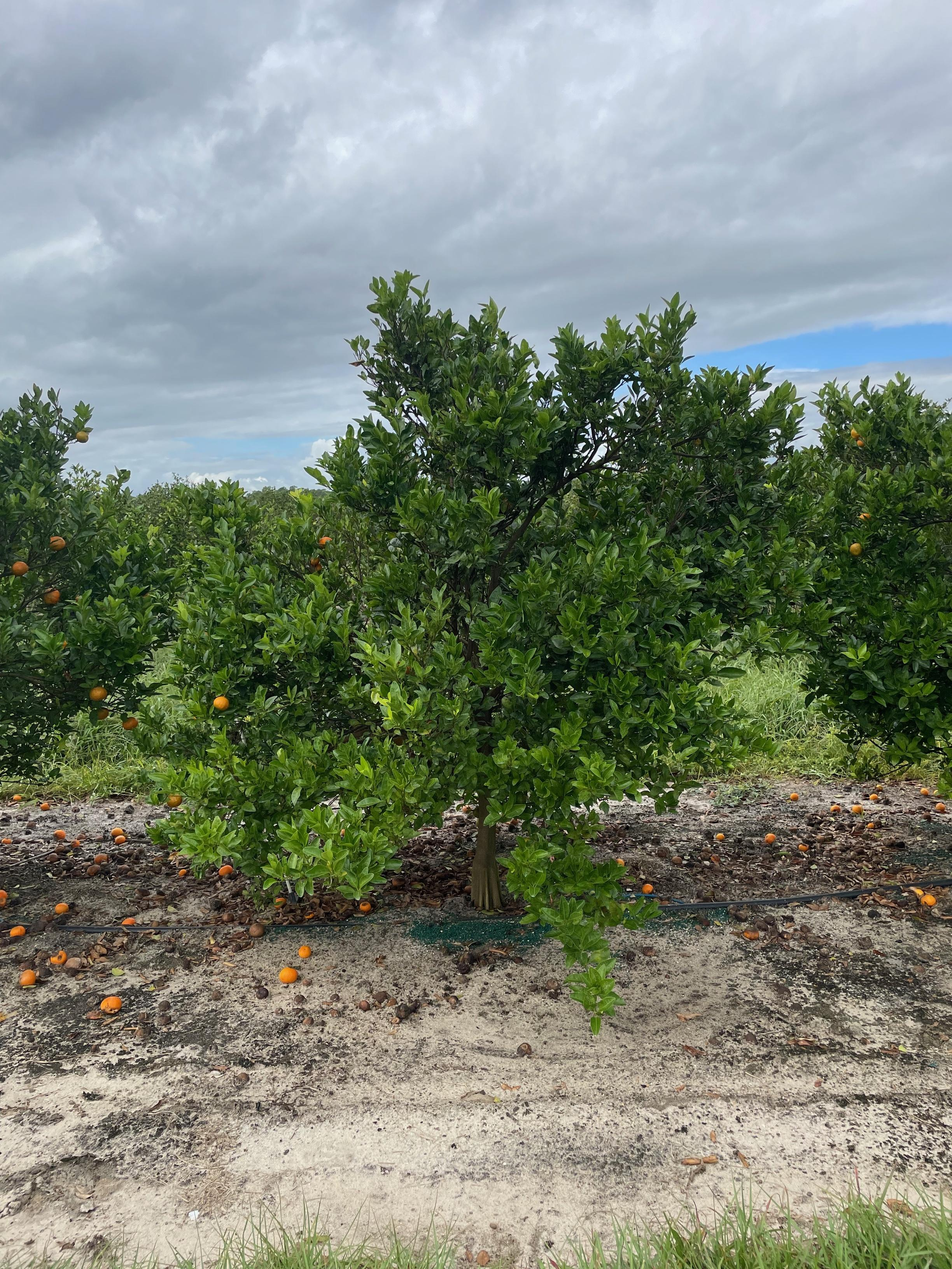fruit_on_ground: (40, 586, 62, 607), (88, 683, 109, 704), (46, 533, 68, 553), (9, 559, 31, 578), (211, 694, 231, 712), (846, 540, 865, 558), (165, 791, 184, 809), (120, 715, 140, 732), (316, 533, 334, 549), (856, 508, 875, 523), (93, 705, 110, 721), (74, 429, 91, 445), (847, 425, 862, 439), (306, 554, 321, 568), (854, 436, 868, 449), (310, 561, 323, 575)
fruit_on_tree: (278, 965, 299, 985), (100, 994, 122, 1012), (17, 968, 37, 987), (246, 920, 265, 939), (48, 949, 68, 966), (920, 892, 938, 908), (217, 862, 236, 877), (9, 923, 26, 938), (272, 893, 288, 908), (297, 943, 312, 959), (53, 900, 70, 914), (743, 927, 760, 940), (220, 909, 235, 923), (390, 874, 405, 888), (358, 898, 373, 912), (85, 863, 101, 876), (94, 851, 110, 864), (110, 824, 125, 837), (0, 888, 11, 905), (698, 844, 712, 857), (763, 831, 777, 844), (640, 881, 654, 894), (357, 998, 372, 1010), (933, 801, 947, 813), (53, 827, 67, 839), (121, 915, 137, 925), (829, 801, 842, 813), (670, 853, 683, 865), (113, 833, 126, 845), (39, 800, 52, 812), (52, 843, 66, 854), (176, 867, 188, 879), (919, 810, 932, 821), (851, 803, 864, 814), (24, 819, 36, 830), (711, 853, 723, 864), (919, 785, 931, 796), (70, 837, 81, 849), (614, 856, 626, 867), (789, 790, 801, 801), (796, 841, 809, 851), (715, 830, 726, 841), (868, 792, 880, 802), (2, 836, 14, 846), (12, 792, 24, 802), (47, 852, 59, 862), (913, 887, 925, 897), (866, 821, 877, 830), (462, 884, 473, 893), (460, 803, 471, 812)
